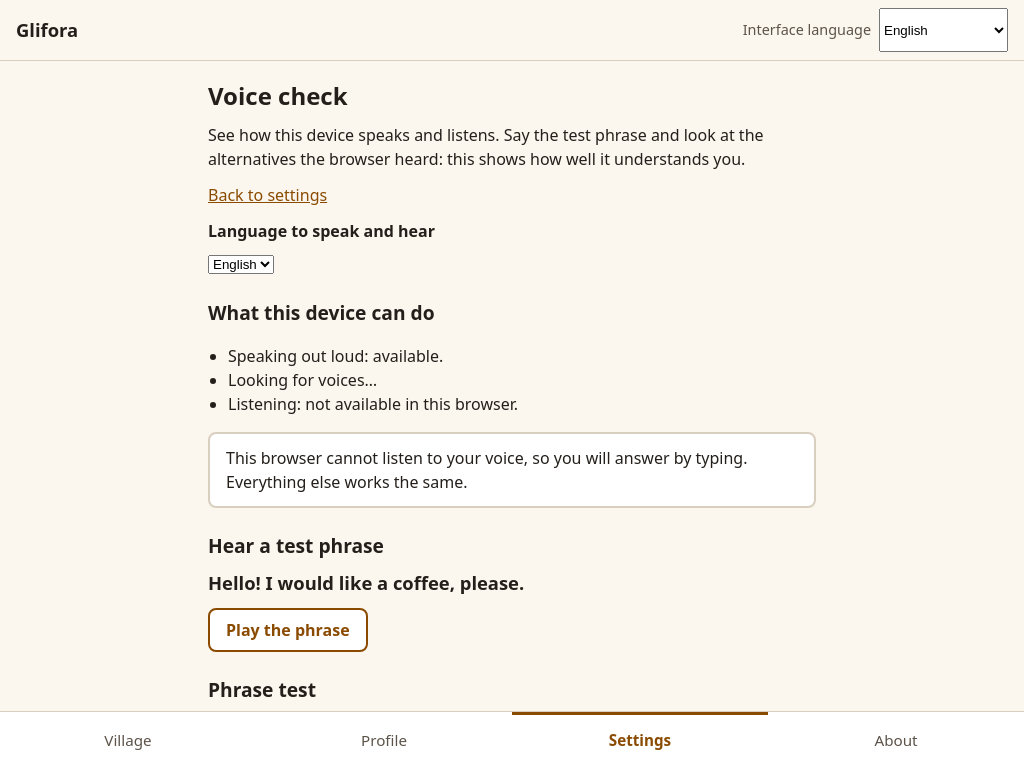
/settings/voice › lista as vozes e fala a frase de teste; sem voz, avisa
Earlier steps of the test are not shown.
Click the button "Play the phrase" at (288, 630), box [208,608,368,652]
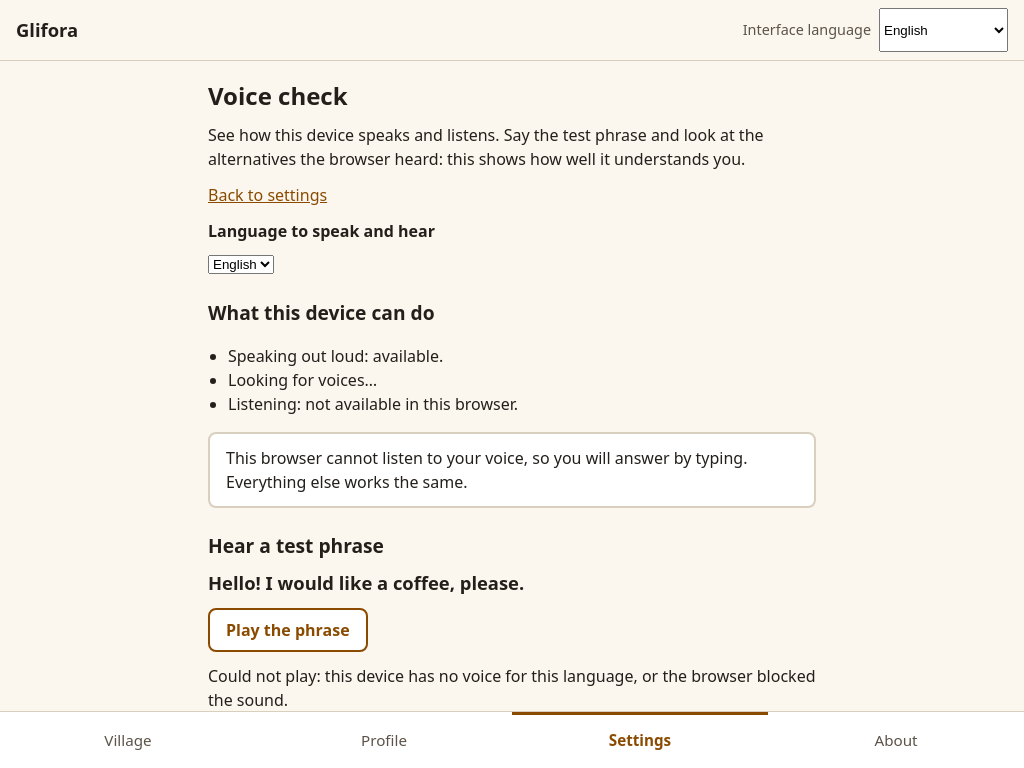
Now the text "Could not play: this device has no voice for this language, or the browser blocked the sound." is shown, box [208,665,816,711]
